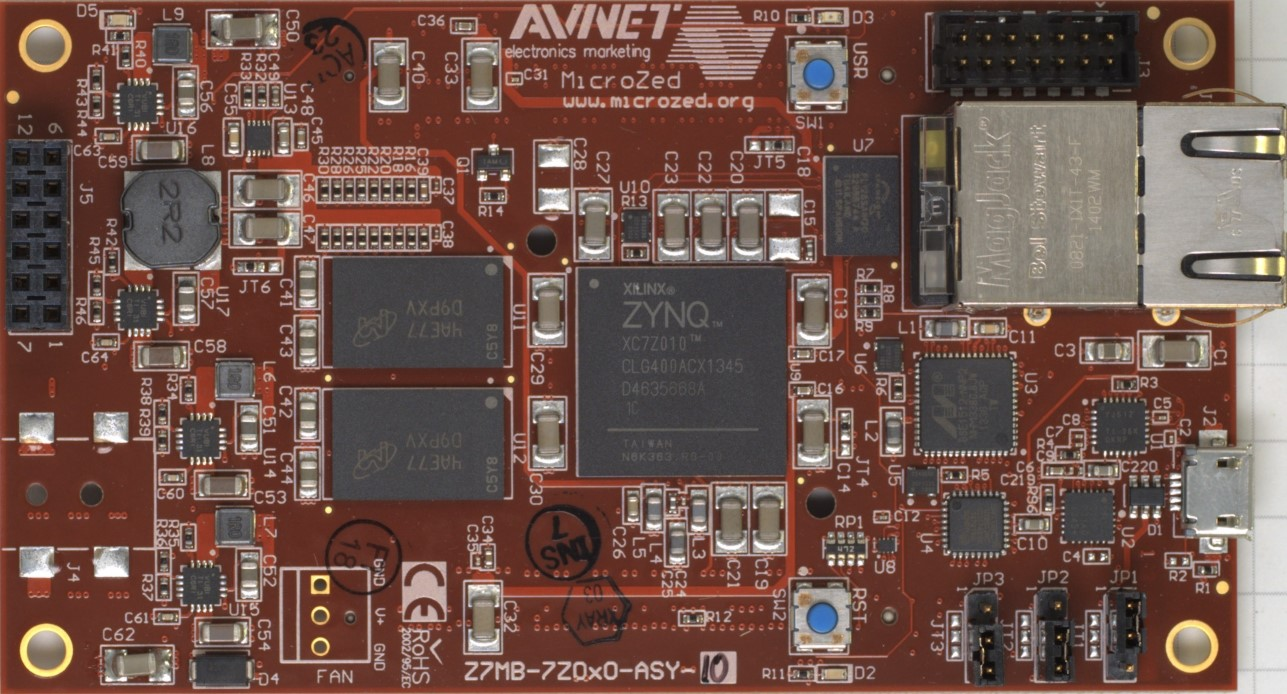Induktor: (120, 168, 223, 270), (214, 358, 256, 398), (151, 24, 193, 63), (216, 506, 256, 543)
